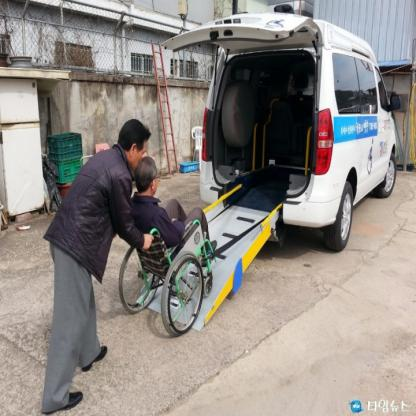wheelchair: (121, 152, 222, 338)
